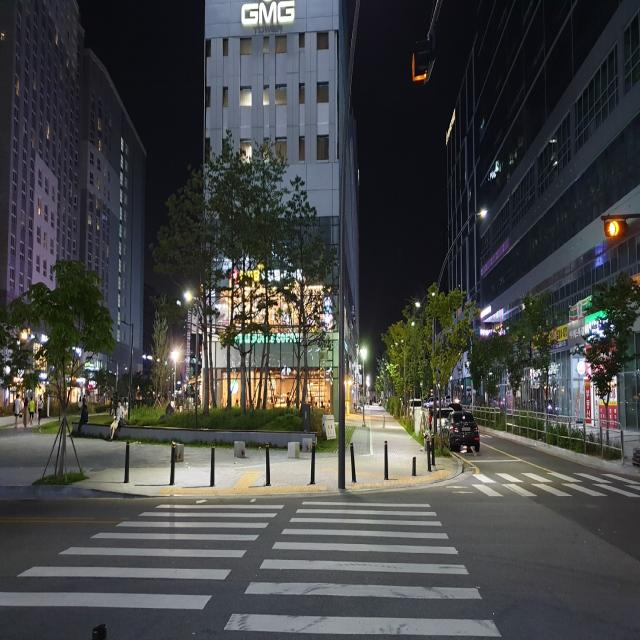횡단보도: (0, 496, 503, 640), (472, 461, 640, 496)
